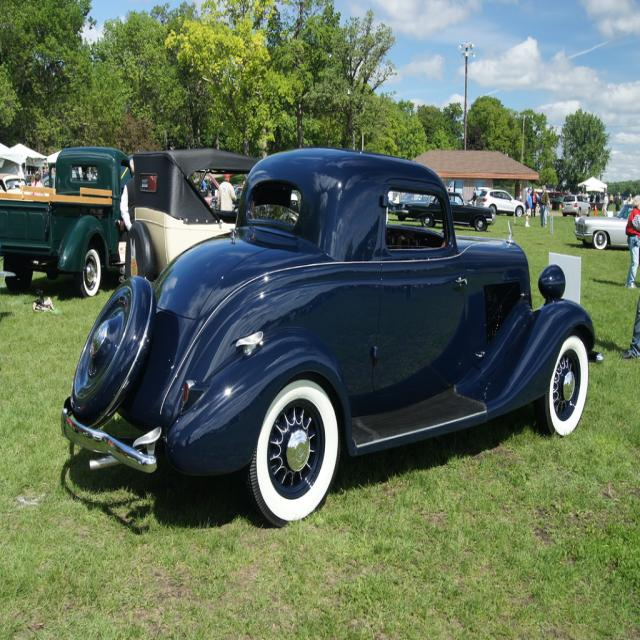car: (58, 145, 594, 525)
